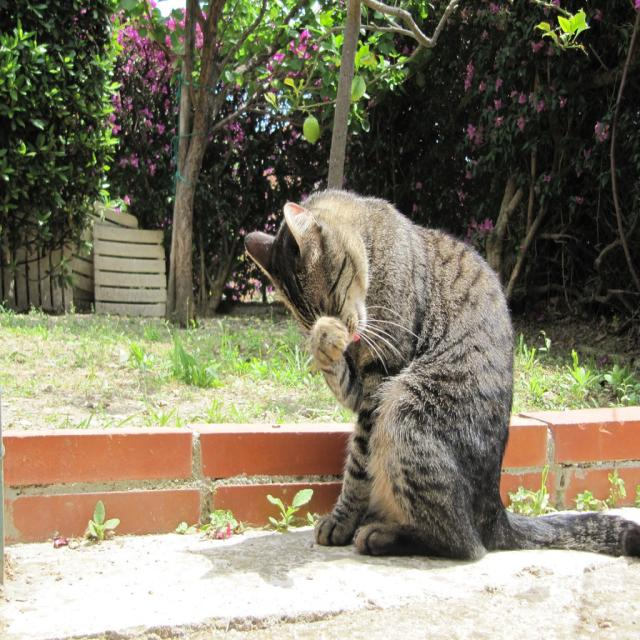Cat: (242, 183, 637, 558)
